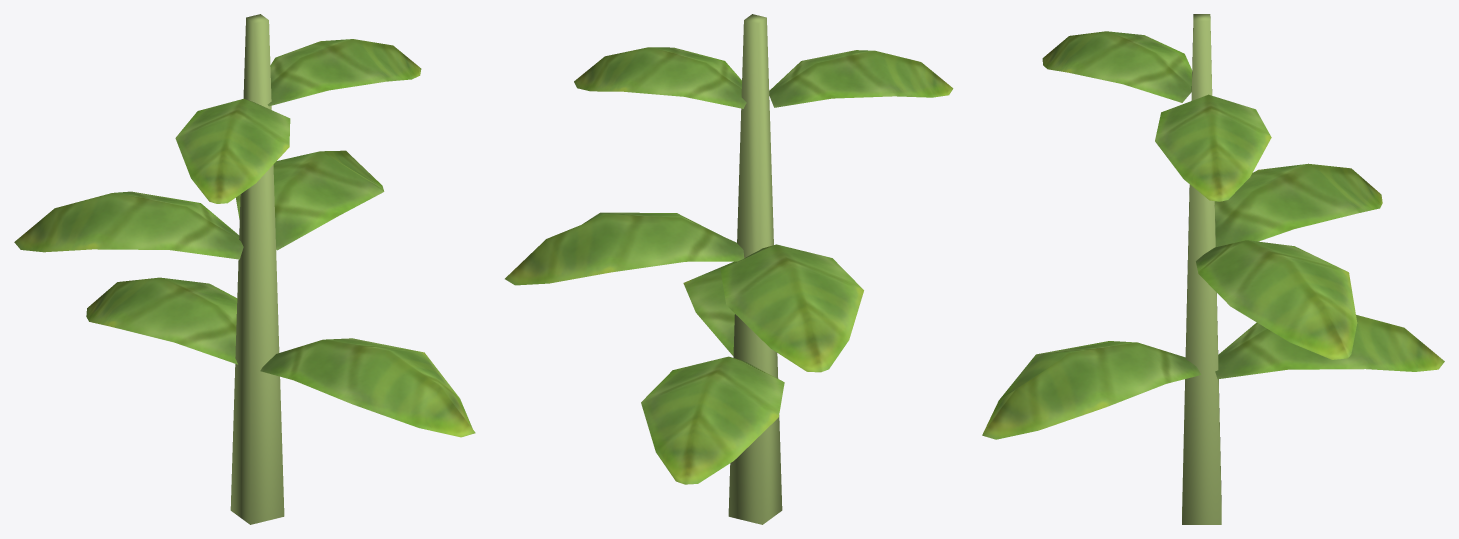
Rendered from TotemFolhas.fbx.
3 views of the same model, side by side, from view 1: azimuth 30°, elevation 25°; view 2: azimuth 150°, elevation 25°; view 3: azimuth 270°, elevation 25° (orthographic).
Visible parts, largest first — view 1: Foliage; view 2: Foliage; view 3: Foliage.
Boxes of the visible parts, <box> form: Foliage: <box>14,14,475,524</box>; Foliage: <box>505,14,953,524</box>; Foliage: <box>982,14,1444,524</box>.
Bounding box in the file's own units: 127 × 179 × 151.
